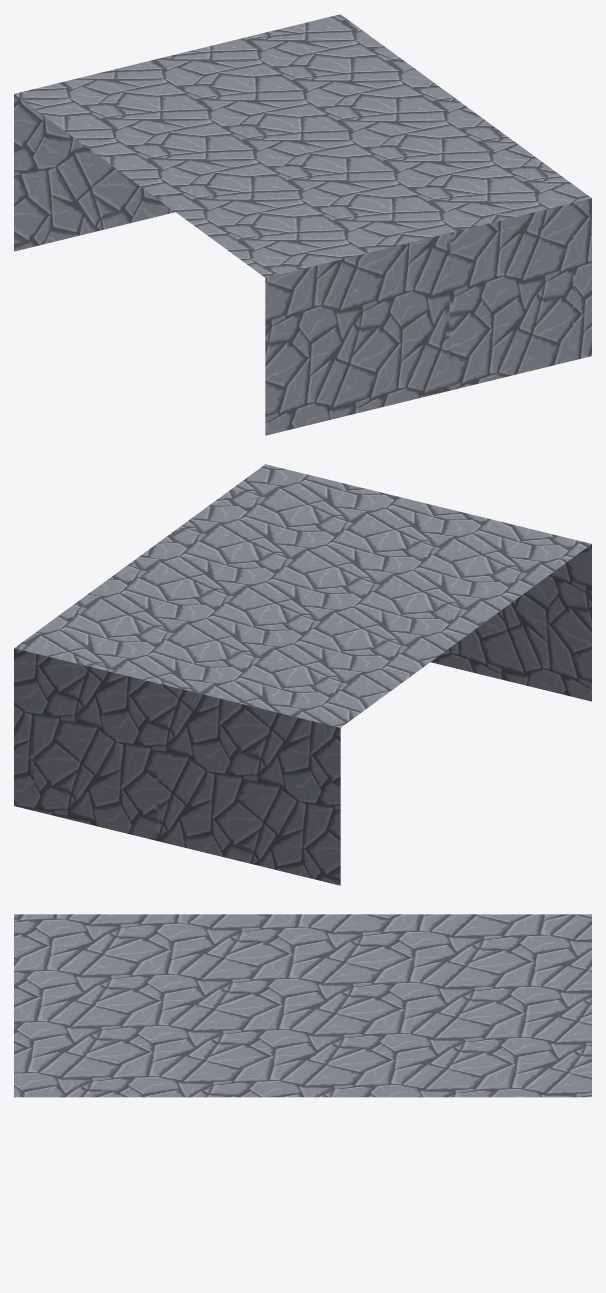
3 renders of one model, top to bottom at view 1: azimuth 30°, elevation 25°; view 2: azimuth 150°, elevation 25°; view 3: azimuth 270°, elevation 25°, orthographic. The views are drawn at different scales.
Parts seen in each view (by area): view 1: plataforma5; view 2: plataforma5; view 3: plataforma5.
Part boxes in pixels (box(x1,y1,x2,y2)): plataforma5: box(14, 14, 591, 435); plataforma5: box(14, 464, 591, 885); plataforma5: box(14, 914, 591, 1097).
Bounding box in the file's own units: 17.24 × 7.96 × 23.
